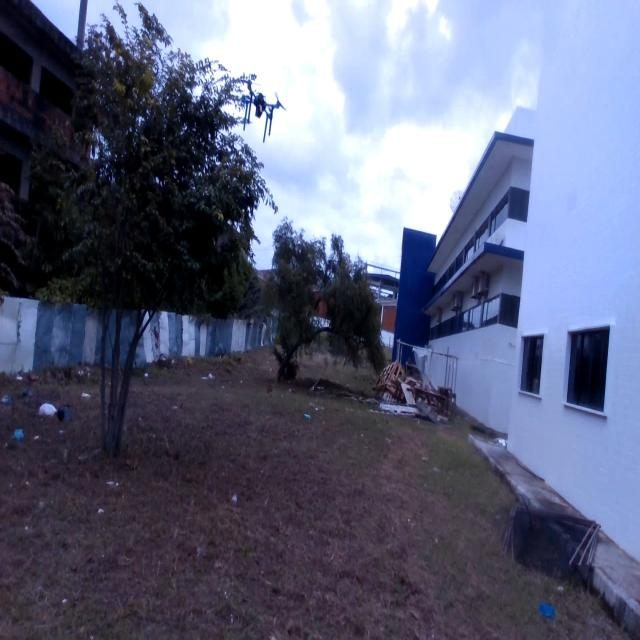-uav-: (222, 64, 290, 151)
